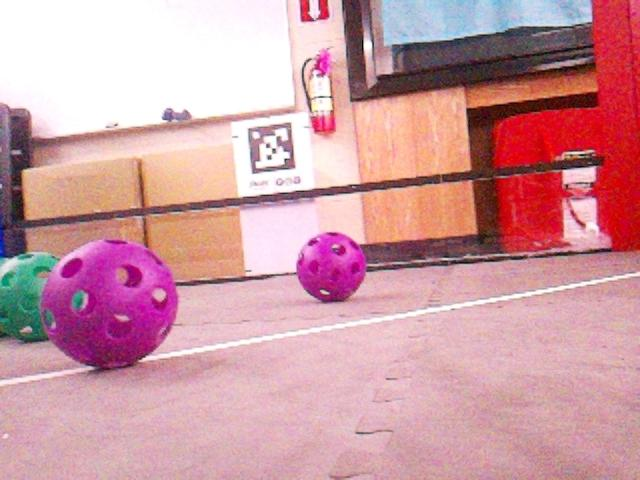Green: (0, 252, 61, 341)
Purple: (40, 238, 178, 367), (295, 232, 365, 301)
